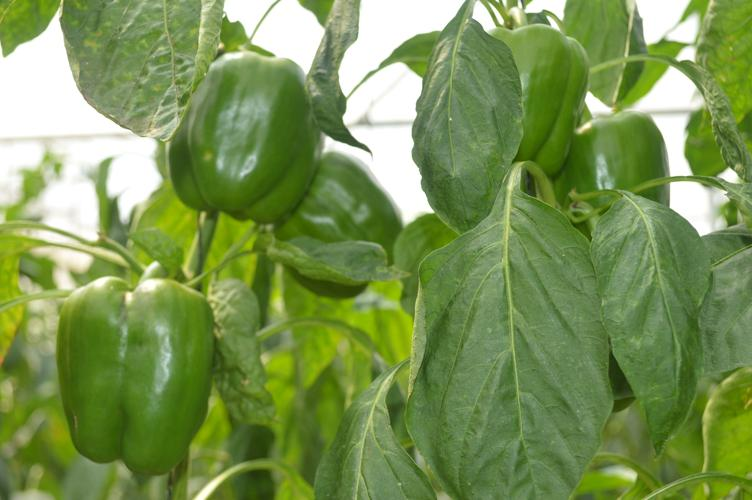BellPepper: (60, 276, 211, 468), (166, 55, 308, 223), (281, 151, 400, 292), (487, 23, 585, 172), (556, 109, 681, 213)
